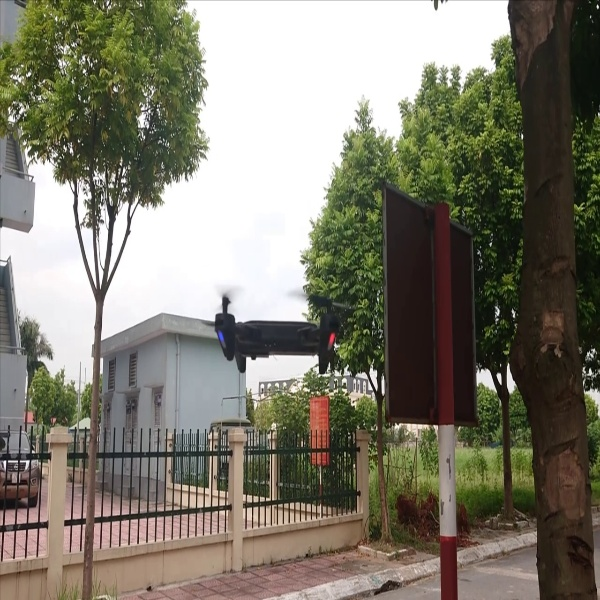drone: (201, 278, 362, 379)
